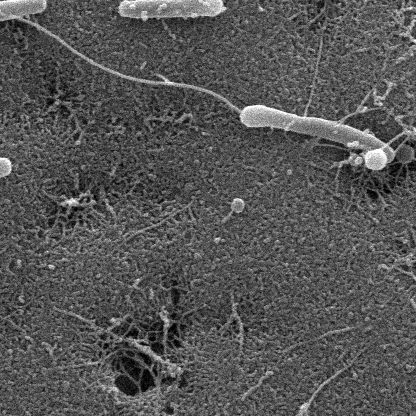cell2cell: (16, 15, 238, 115)
filament: (240, 104, 401, 167)
regular: (118, 0, 223, 21), (0, 0, 47, 34), (0, 156, 14, 195)
